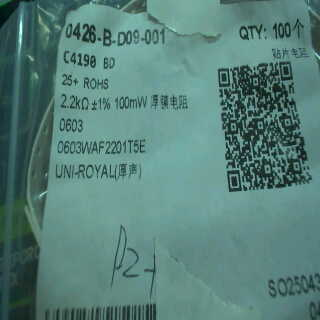2.2kR: (59, 93, 93, 112)
